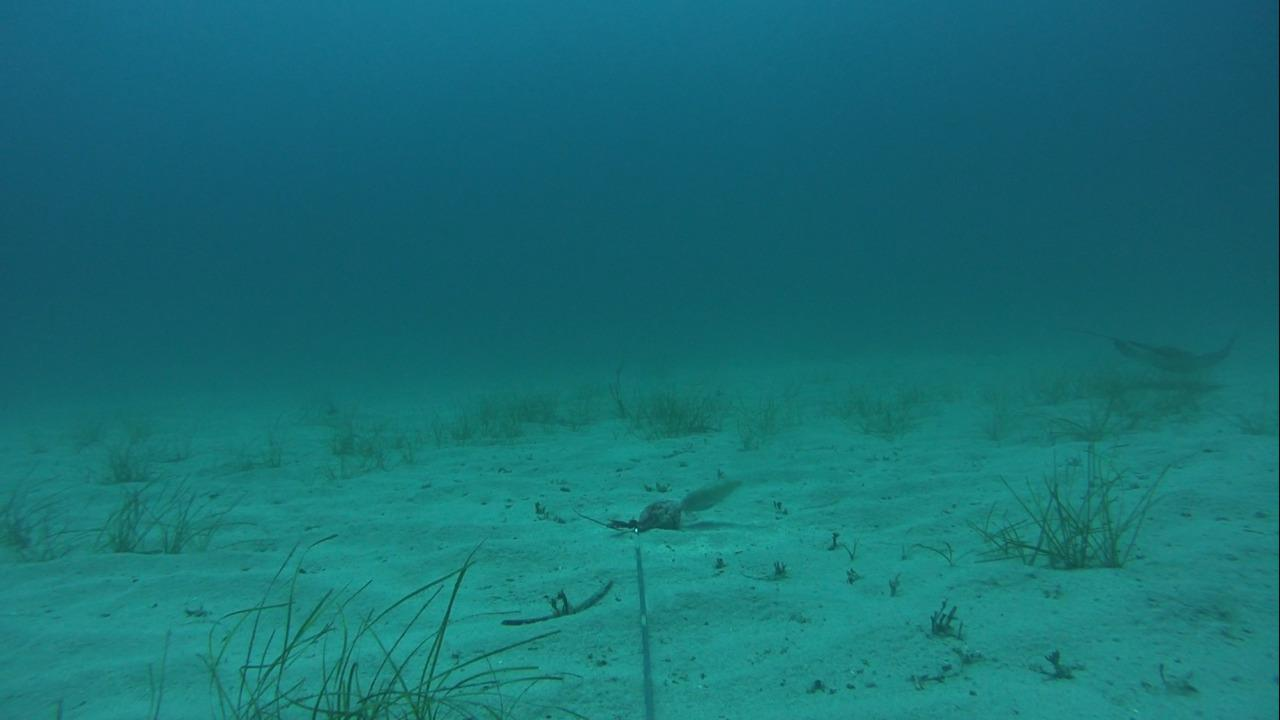myliobatis: (1060, 317, 1245, 384)
raor: (674, 475, 750, 517)
